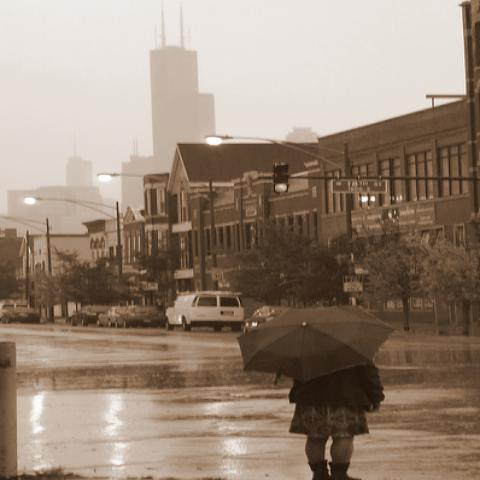car: (244, 306, 295, 334), (120, 306, 165, 328), (67, 306, 109, 327), (0, 300, 29, 320), (2, 309, 40, 324), (96, 307, 122, 327)
truck: (162, 291, 246, 333)
